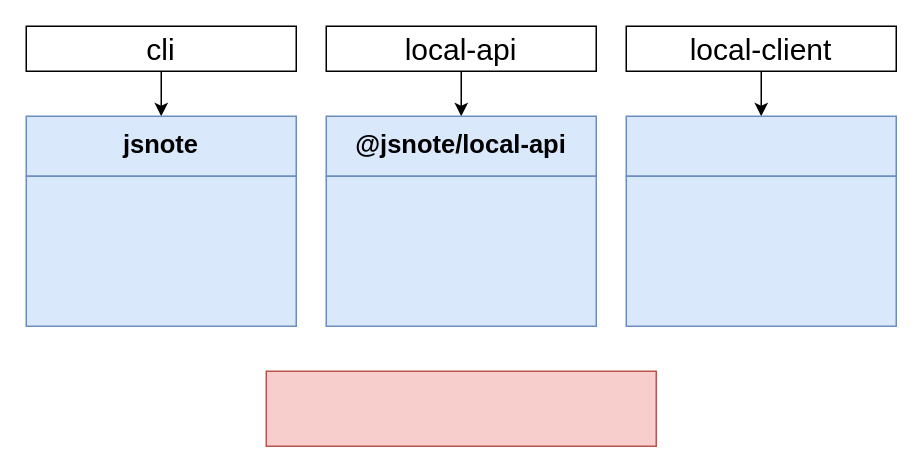
This 923x473 diagram has some shape labels left out. The shapes that lost their labels are listed below. From the top down, each one's centre as x and y in pixels, then its label:
At (760,145): "@jsnote/local-client".
At (460,408): "Run 'lerna bootstrap' after this to relink all packages".
